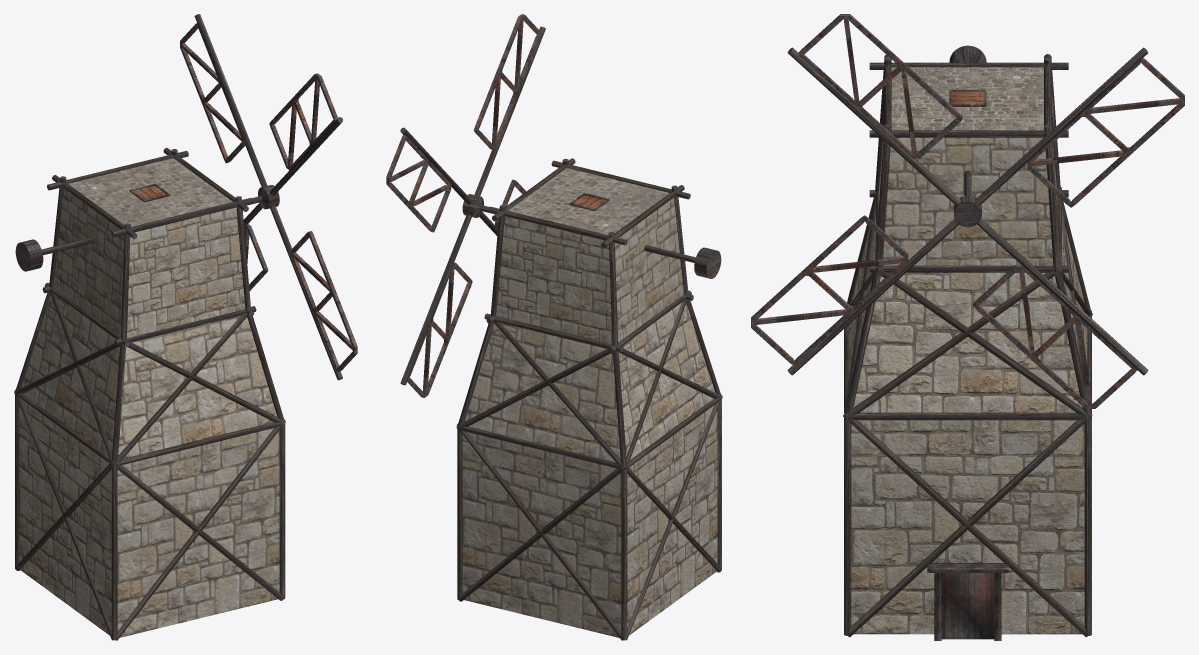
Rendered from mlin_izvanka (1).glb.
3 renders of one model, left to right at view 1: azimuth 30°, elevation 25°; view 2: azimuth 150°, elevation 25°; view 3: azimuth 270°, elevation 25°, orthographic. The views are drawn at different scales.
Parts seen in each view (by area): view 1: Cube, turbina.002, turbina.003, turbina, Cylinder.007, os, Cylinder.008, Cylinder.003, ruka, Cylinder.006, Cylinder.011, Cylinder.021 (+22 smaller); view 2: Cube, turbina.003, turbina.001, turbina, Cylinder.002, os, Cylinder.001, Cylinder.004, Cylinder.005, ruka.001, Cylinder.016, Cylinder.015 (+21 smaller); view 3: Cube, Vrata, turbina.002, turbina, turbina.003, turbina.001, Cylinder.010, Cylinder.009, Cylinder.029, Cylinder.019, ruka, ruka.001 (+15 smaller).
Part boxes in pixels (x1,y1,x2,y2): Cube: [19, 158, 279, 637]; turbina.002: [291, 231, 357, 372]; turbina.003: [269, 73, 337, 169]; turbina: [180, 23, 245, 163]; Cylinder.007: [116, 420, 284, 640]; os: [15, 185, 279, 271]; Cylinder.008: [111, 461, 283, 600]; Cylinder.003: [14, 390, 112, 640]; ruka: [194, 14, 267, 186]; Cylinder.006: [111, 463, 117, 640]; Cylinder.011: [279, 422, 285, 598]; Cylinder.021: [117, 312, 247, 463]; Cube: [462, 168, 717, 637]; turbina.003: [473, 14, 541, 149]; turbina.001: [407, 262, 472, 397]; turbina: [386, 135, 451, 232]; Cylinder.002: [456, 425, 622, 640]; os: [462, 194, 721, 278]; Cylinder.001: [459, 465, 627, 601]; Cylinder.004: [626, 395, 722, 640]; Cylinder.005: [621, 466, 627, 640]; ruka.001: [400, 214, 471, 385]; Cylinder.016: [493, 321, 621, 466]; Cylinder.015: [460, 349, 610, 427]; Cube: [848, 67, 1087, 634]; Vrata: [927, 563, 1008, 640]; turbina.002: [751, 215, 908, 365]; turbina: [1027, 58, 1184, 207]; turbina.003: [798, 14, 962, 158]; turbina.001: [973, 264, 1137, 408]; Cylinder.010: [848, 413, 1092, 637]; Cylinder.009: [843, 413, 1087, 637]; Cylinder.029: [848, 412, 1090, 420]; Cylinder.019: [882, 272, 1086, 416]; ruka: [975, 47, 1148, 205]; ruka.001: [977, 219, 1148, 375].
Size of the model in its own units: 95.87 by 189 by 115.
Materials: 20 (20 with a texture image).
